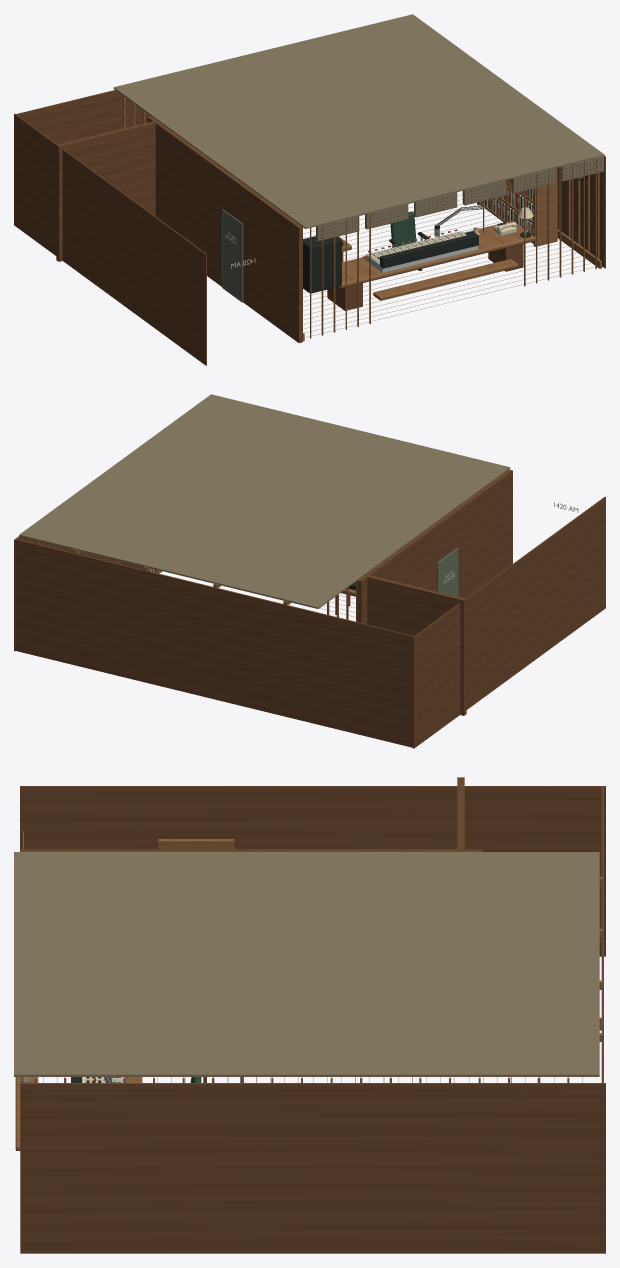
The model's file is SM_1420_Interior.fbx.
The picture shows the model from 3 angles, top to bottom: view 1: azimuth 30°, elevation 25°; view 2: azimuth 150°, elevation 25°; view 3: azimuth 270°, elevation 25°; orthographic projection. The views are drawn at different scales.
Visible parts, largest first — view 1: SM_1420_Interior; view 2: SM_1420_Interior; view 3: SM_1420_Interior.
Part boxes in pixels (bbox=[...]): SM_1420_Interior: bbox=[14, 14, 605, 365]; SM_1420_Interior: bbox=[14, 394, 605, 748]; SM_1420_Interior: bbox=[14, 777, 605, 1253].
Size of the model in its own units: 11.54 by 9.6 by 3.19.
